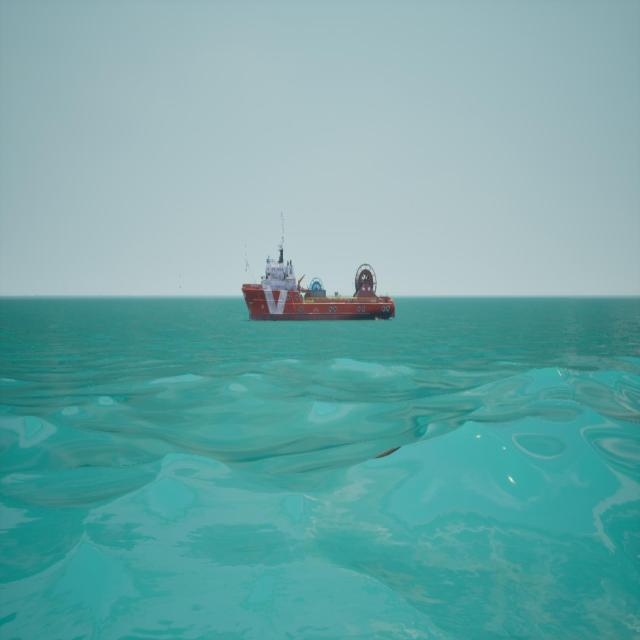tug boat: (241, 214, 395, 326)
